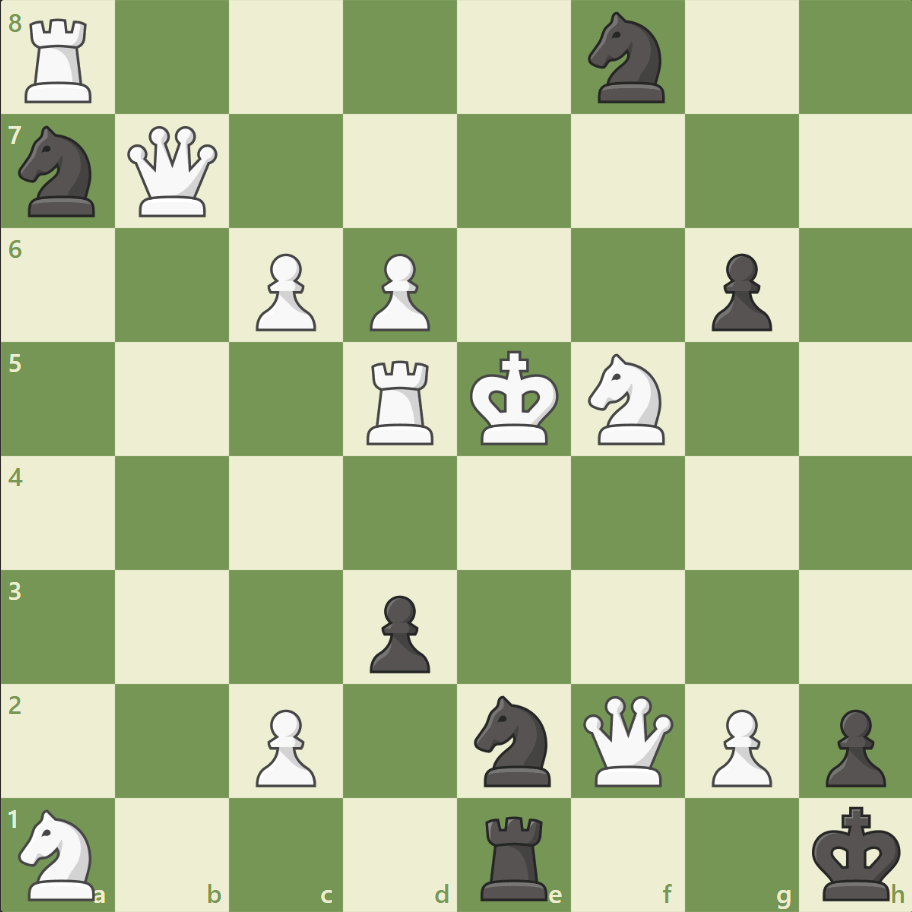K: (465, 344, 565, 452)
N: (579, 348, 676, 450), (11, 802, 108, 904)
P: (247, 246, 322, 337), (247, 700, 322, 791), (701, 700, 776, 791), (361, 246, 435, 337)
Q: (124, 122, 223, 222), (578, 690, 677, 789)
R: (19, 12, 102, 109), (360, 352, 442, 449)
k: (806, 798, 906, 906)
n: (579, 7, 676, 110), (465, 688, 562, 791), (11, 121, 108, 223)
p: (701, 246, 776, 337), (361, 586, 435, 677), (815, 700, 889, 791)
r: (473, 806, 556, 904)
